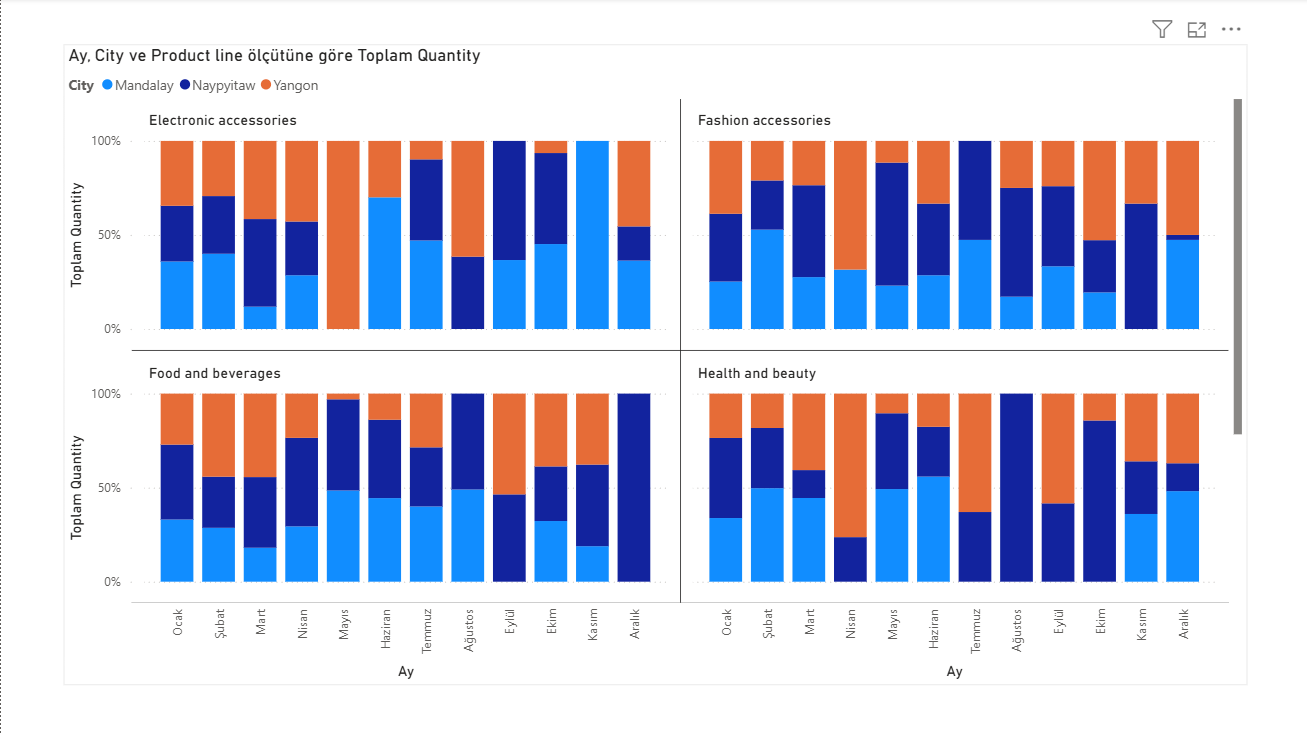

Layout of this report page (visuals, bound fields, positions):
{"tool":"powerbi","page":{"name":"Units Sold by Product Category","canvas":[1280,720],"ordinal":3},"visuals":[{"type":"hundredPercentStackedColumnChart","fields":{"Category":["supermarket_sales - Sheet1.Date.Varyasyon.Tarih Hiyerarşisi.Ay"],"Series":["supermarket_sales - Sheet1.City"],"Y":["Sum(supermarket_sales - Sheet1.Quantity)"],"Rows":["supermarket_sales - Sheet1.Product line"]},"box":[61.1,45.2,1158,627.3],"z":0}]}

Visuals, with their boxes on the page's 1280x720 design canvas (x1, y1, x2, y2). These are canvas units, not pixel positions in the 1307x733 screenshot, which may show the page scaled, cropped or inside an application window:
hundredPercentStackedColumnChart - supermarket_sales - Sheet1.Date.Varyasyon.Tarih Hiyerarşisi.Ay x supermarket_sales - Sheet1.City: l=61, t=45, r=1219, b=672
